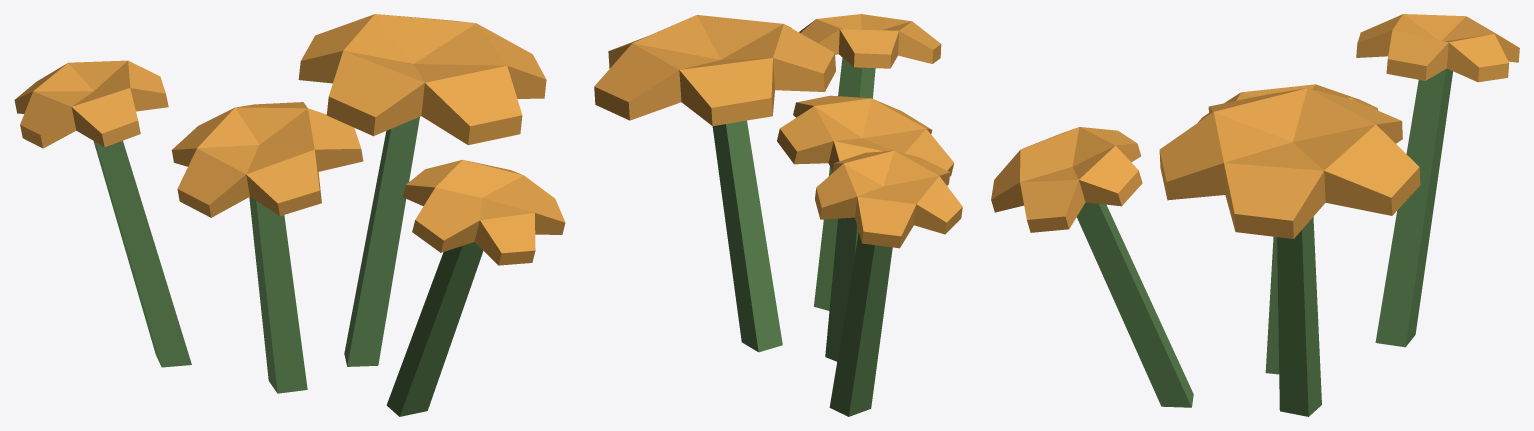
The model's file is event_8.fbx.
The picture shows the model from 3 angles, left to right: view 1: azimuth 30°, elevation 25°; view 2: azimuth 150°, elevation 25°; view 3: azimuth 270°, elevation 25°; orthographic projection. The views are drawn at different scales.
Parts seen in each view (by area): view 1: event_08; view 2: event_08; view 3: event_08.
Boxes of the visible parts, left/top/right/bottom form: event_08: left=14, top=14, right=565, bottom=416; event_08: left=594, top=14, right=962, bottom=416; event_08: left=991, top=14, right=1519, bottom=416.
Size of the model in its own units: 0.0395 by 0.0269 by 0.0411.
Materials: 1 (1 with a texture image).
